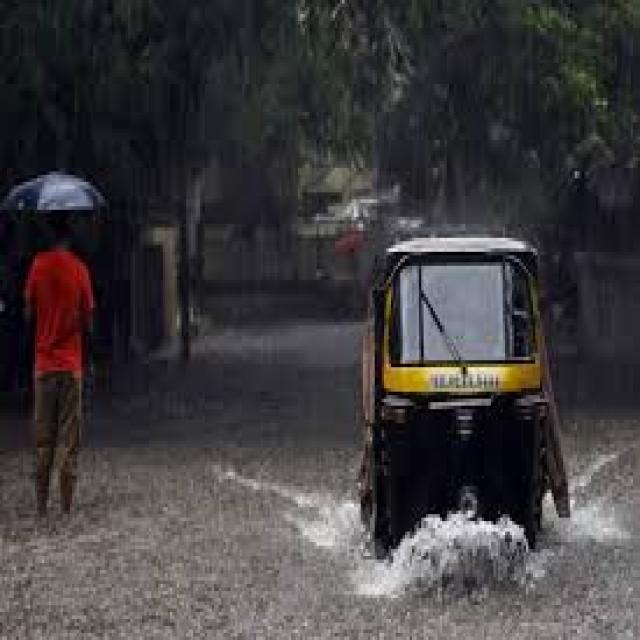auto_front: (354, 225, 576, 598)
